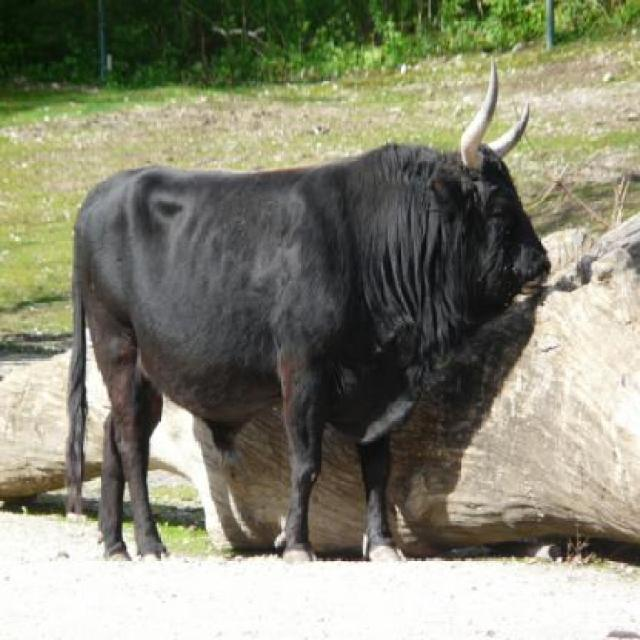Cow: (71, 59, 555, 563)
